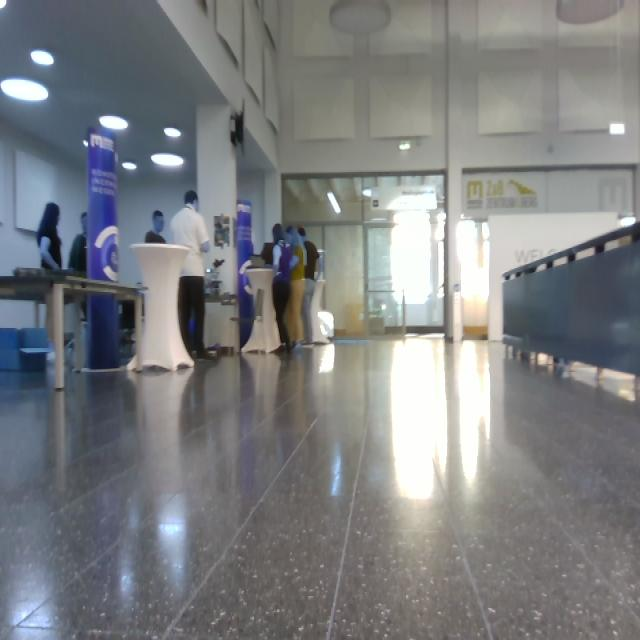door: (363, 175, 446, 335), (323, 224, 366, 337)
light bulb: (329, 1, 392, 37), (556, 1, 624, 25), (1, 77, 49, 102), (151, 153, 184, 168), (99, 115, 129, 131), (318, 311, 335, 339), (31, 49, 55, 66), (327, 192, 342, 214), (164, 127, 181, 139)
person: (170, 190, 218, 361), (271, 224, 298, 353), (285, 225, 307, 348), (298, 228, 321, 345), (145, 210, 167, 244)
pillar: (84, 125, 121, 370)
staircase: (501, 220, 640, 400)
tiled floor: (1, 333, 639, 638)
window: (282, 172, 448, 337)
